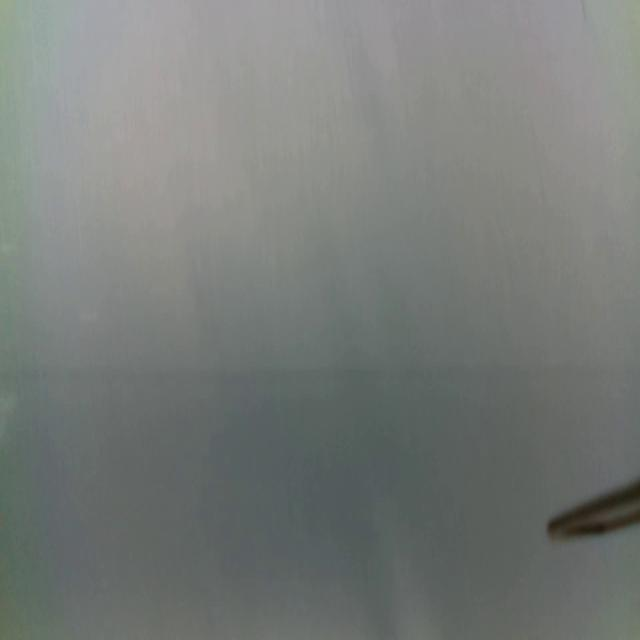color bleeding: (1, 351, 640, 403)
